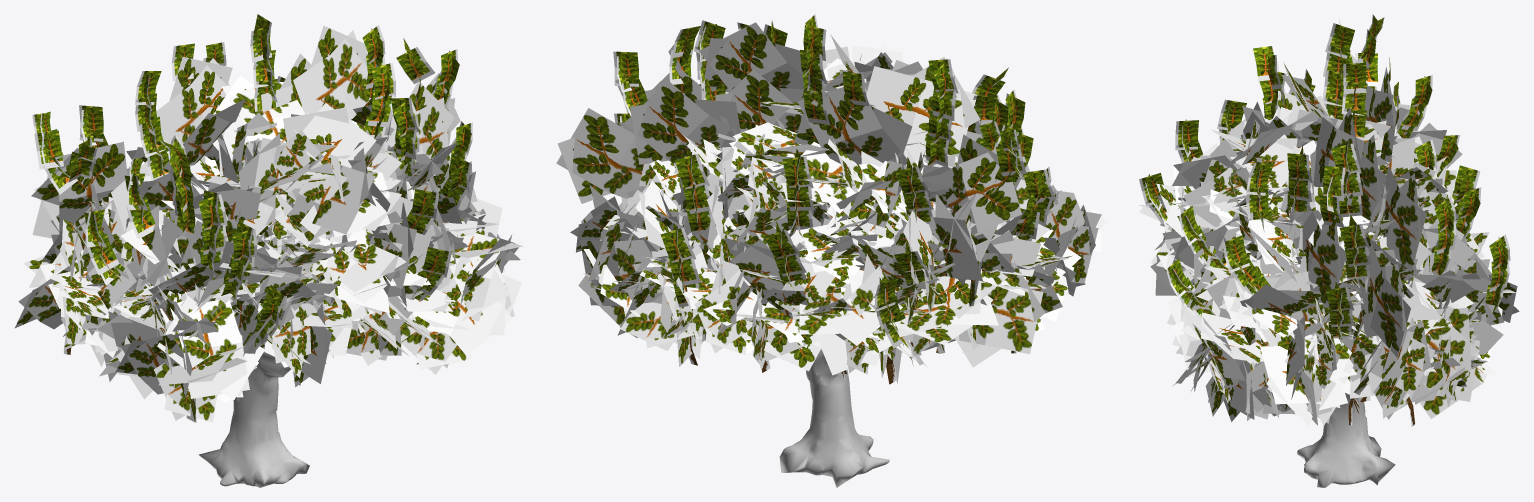
The model's file is algarrobo_LOD.fbx.
3 views of the same model, side by side, from view 1: azimuth 30°, elevation 25°; view 2: azimuth 150°, elevation 25°; view 3: azimuth 270°, elevation 25° (orthographic). The views are drawn at different scales.
Parts seen in each view (by area): view 1: Algarrobo_LOD0; view 2: Algarrobo_LOD0; view 3: Algarrobo_LOD0.
Part boxes in pixels (x1=…): Algarrobo_LOD0: x1=14, y1=14, x2=523, y2=487; Algarrobo_LOD0: x1=556, y1=14, x2=1108, y2=487; Algarrobo_LOD0: x1=1138, y1=14, x2=1519, y2=487.
Size of what is drawn, in the model's own units: 2090 by 1924 by 1606.
